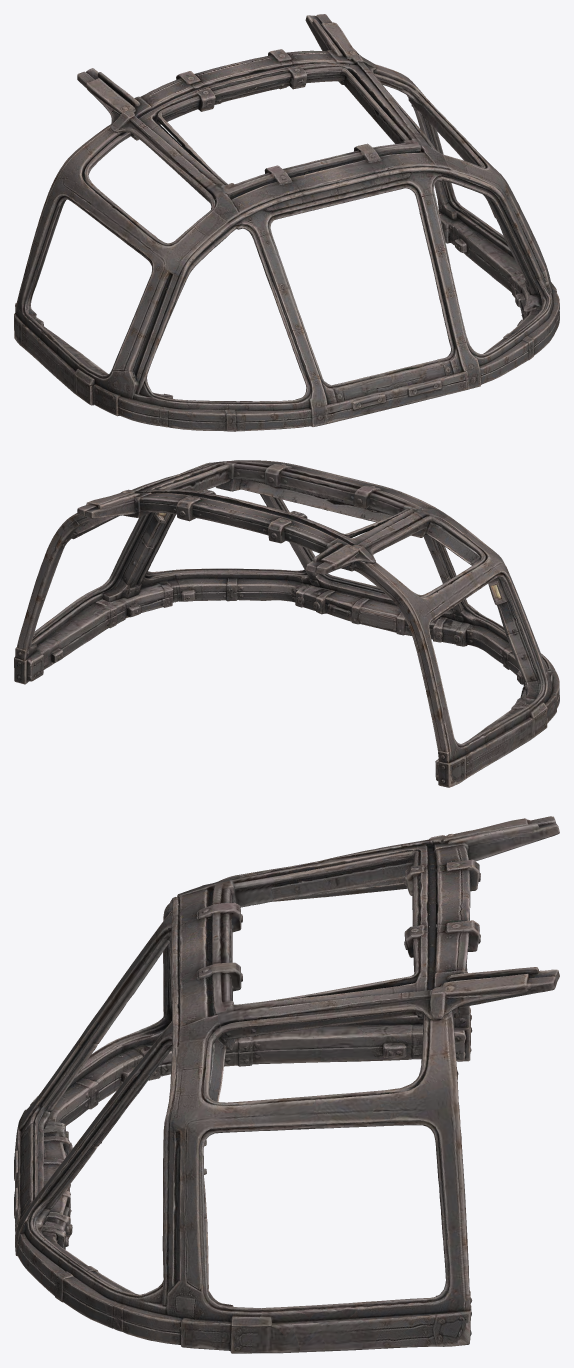
File: canopy.glb
3 renders of one model, top to bottom at view 1: azimuth 30°, elevation 25°; view 2: azimuth 150°, elevation 25°; view 3: azimuth 270°, elevation 25°, orthographic. The views are drawn at different scales.
Parts seen in each view (by area): view 1: world; view 2: world; view 3: world.
Part boxes in pixels (x1,y1,x2,y2): world: (14, 14, 559, 431); world: (14, 460, 559, 787); world: (14, 816, 559, 1353).
Bounding box in the file's own units: 1.9 × 0.8958 × 1.43.
Materials: 1 (1 with a texture image).
